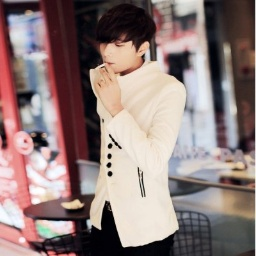face: (93, 5, 156, 73)
